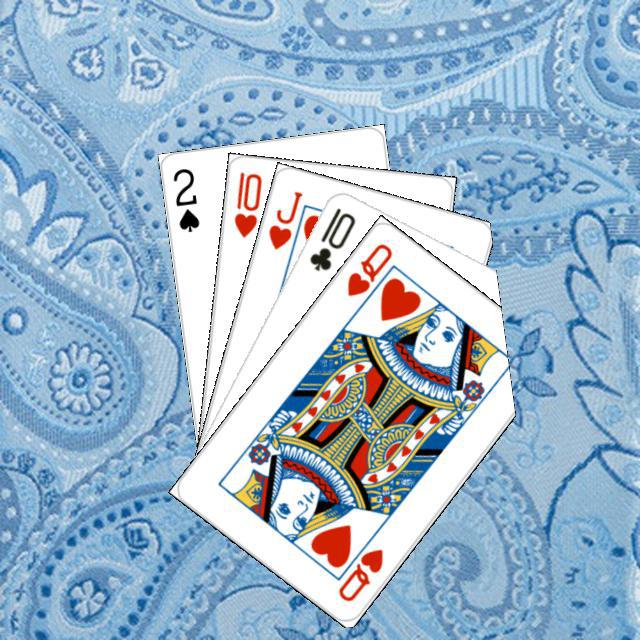10c: (304, 202, 357, 273)
10h: (229, 167, 264, 239)
2s: (168, 163, 201, 234)
Jh: (263, 186, 304, 252)
Qh: (332, 528, 385, 604), (342, 238, 394, 299)
